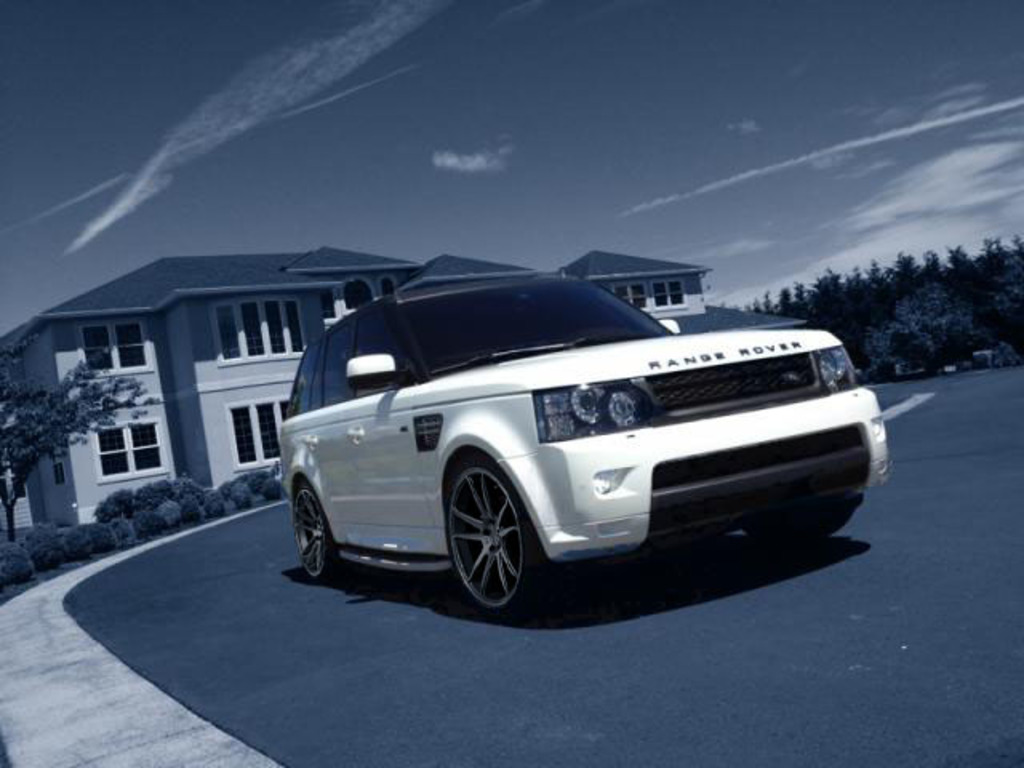Tree: (745, 246, 1024, 381), (0, 332, 167, 542)
